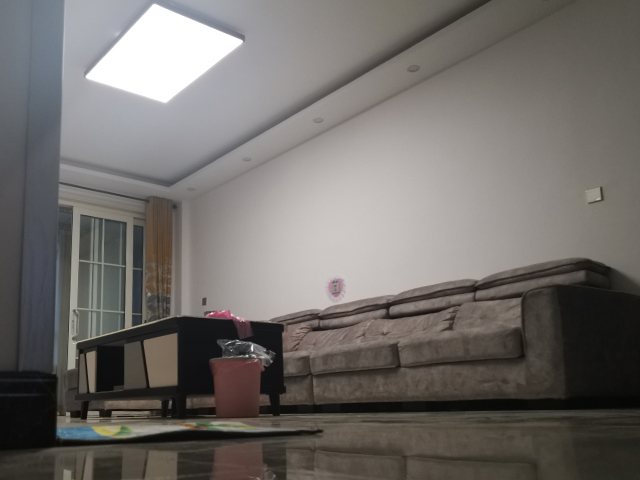carpet: (52, 419, 326, 448)
sofa: (310, 258, 640, 413)
table: (72, 313, 289, 420)
trashcan: (207, 353, 267, 420)
